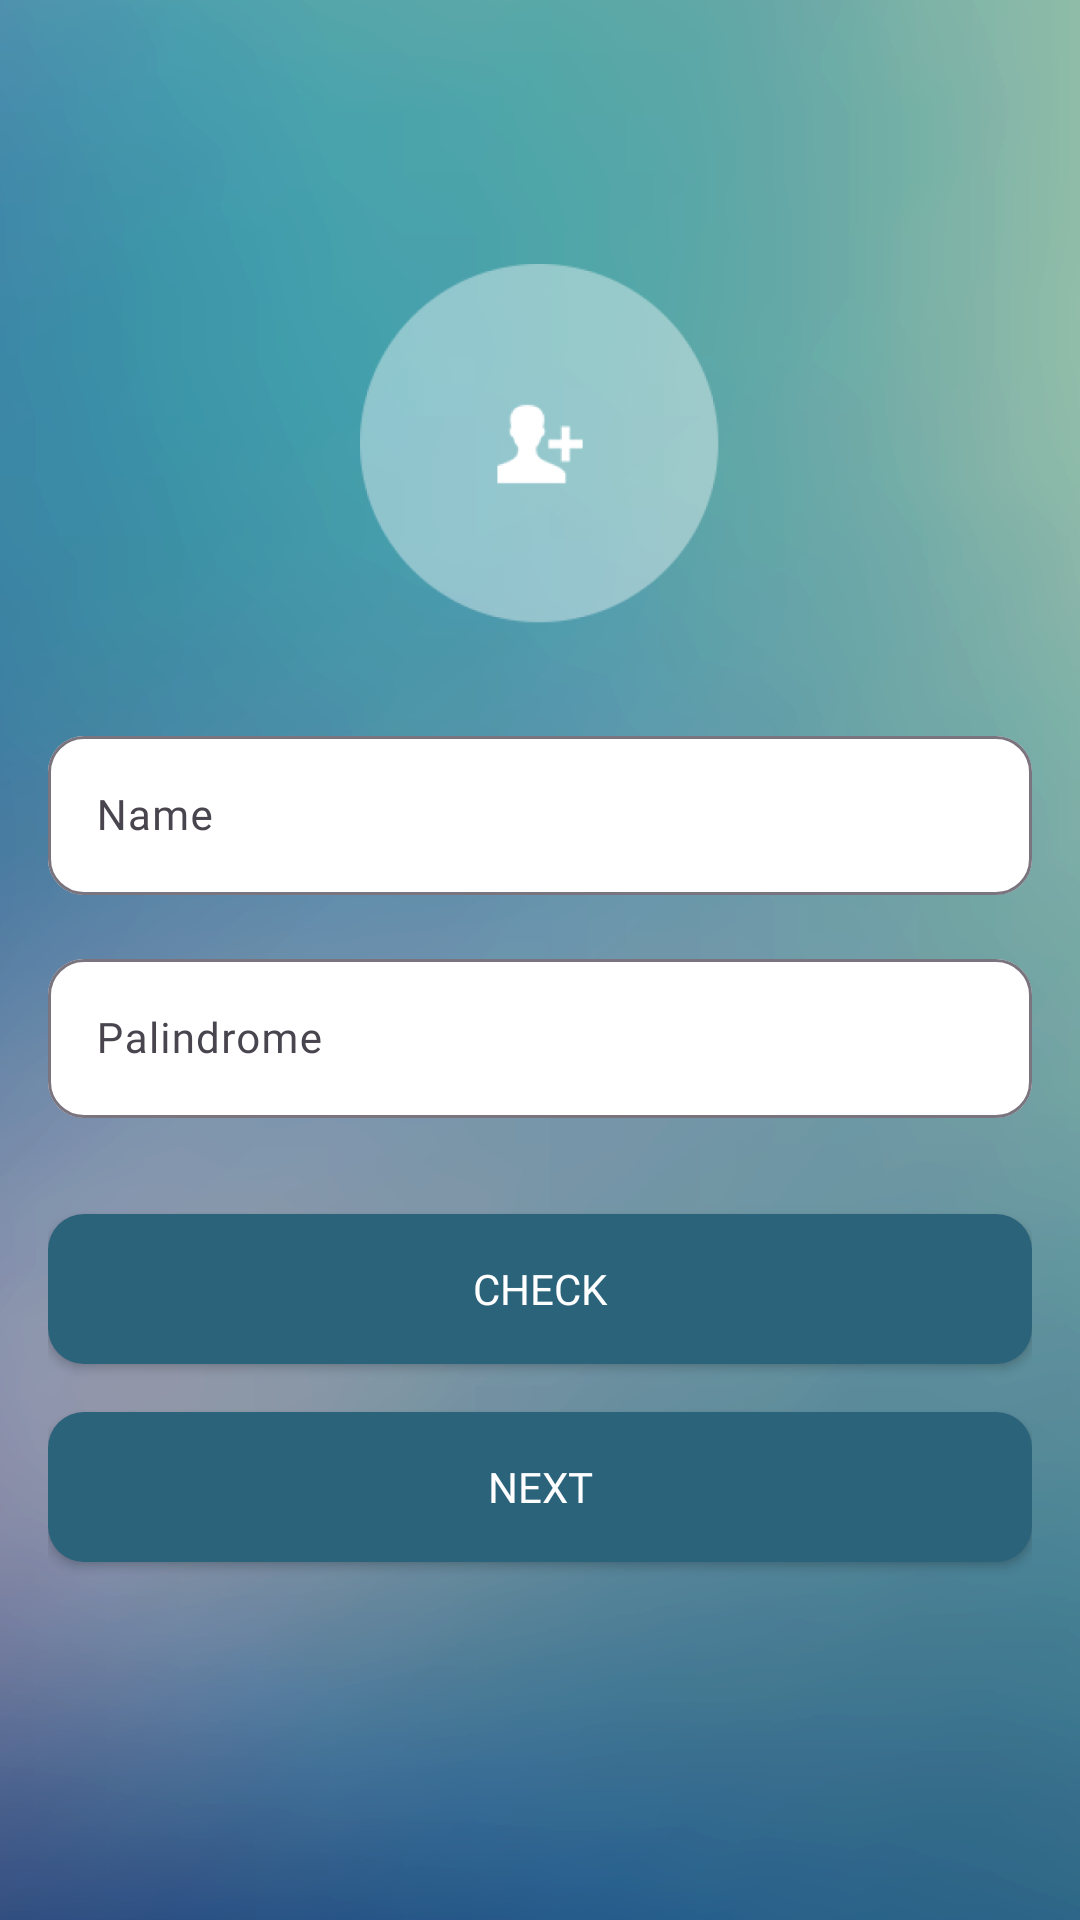

Where to tap for icons on this 1080×1920 app screen, as [x,y]:
photo: [540,444]
